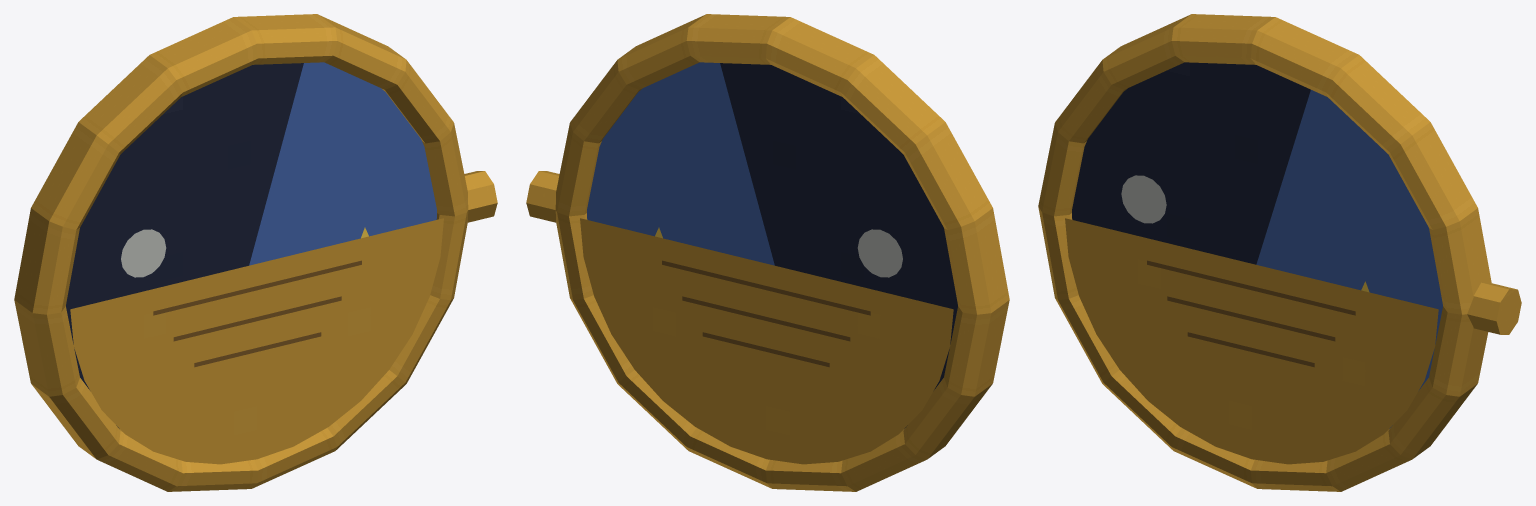
Rendered from clock_19.obj.
The picture shows the model from 3 angles, left to right: view 1: azimuth 30°, elevation 25°; view 2: azimuth 150°, elevation 25°; view 3: azimuth 330°, elevation 25°; orthographic projection.
Size of the model in its own units: 0.6363 by 0.6037 by 0.075.
